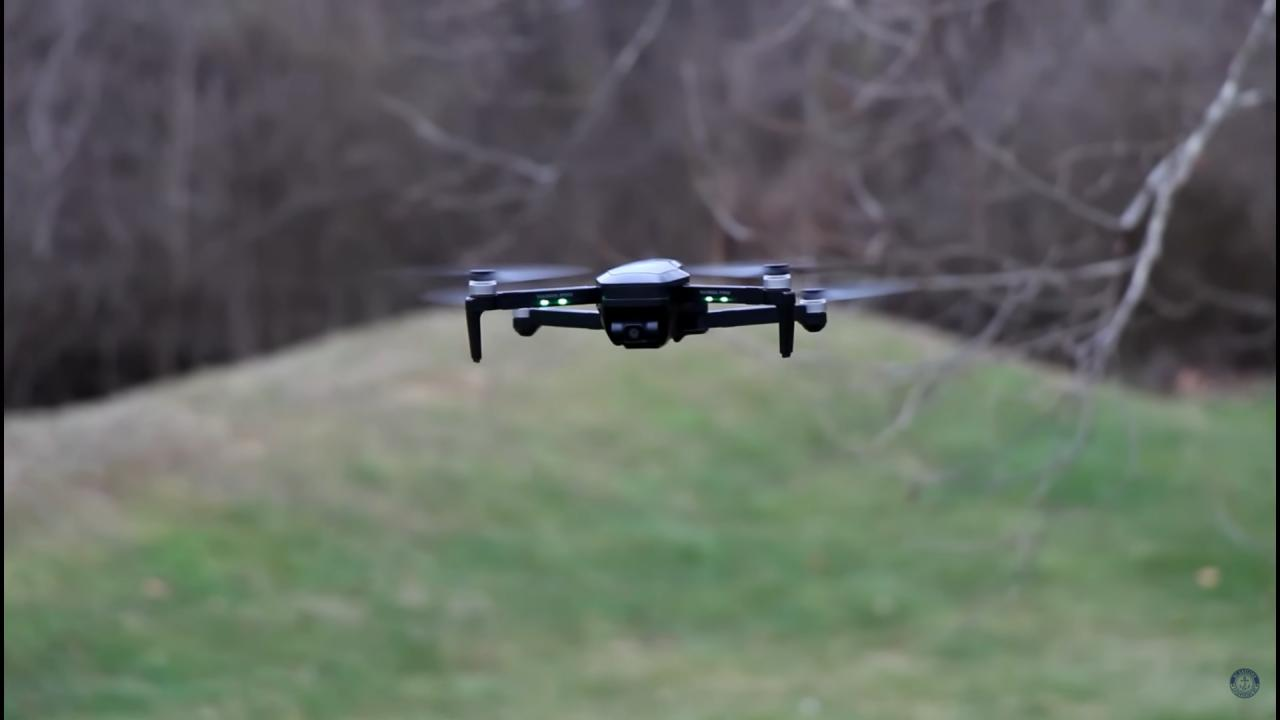Drone: (348, 225, 946, 382)
